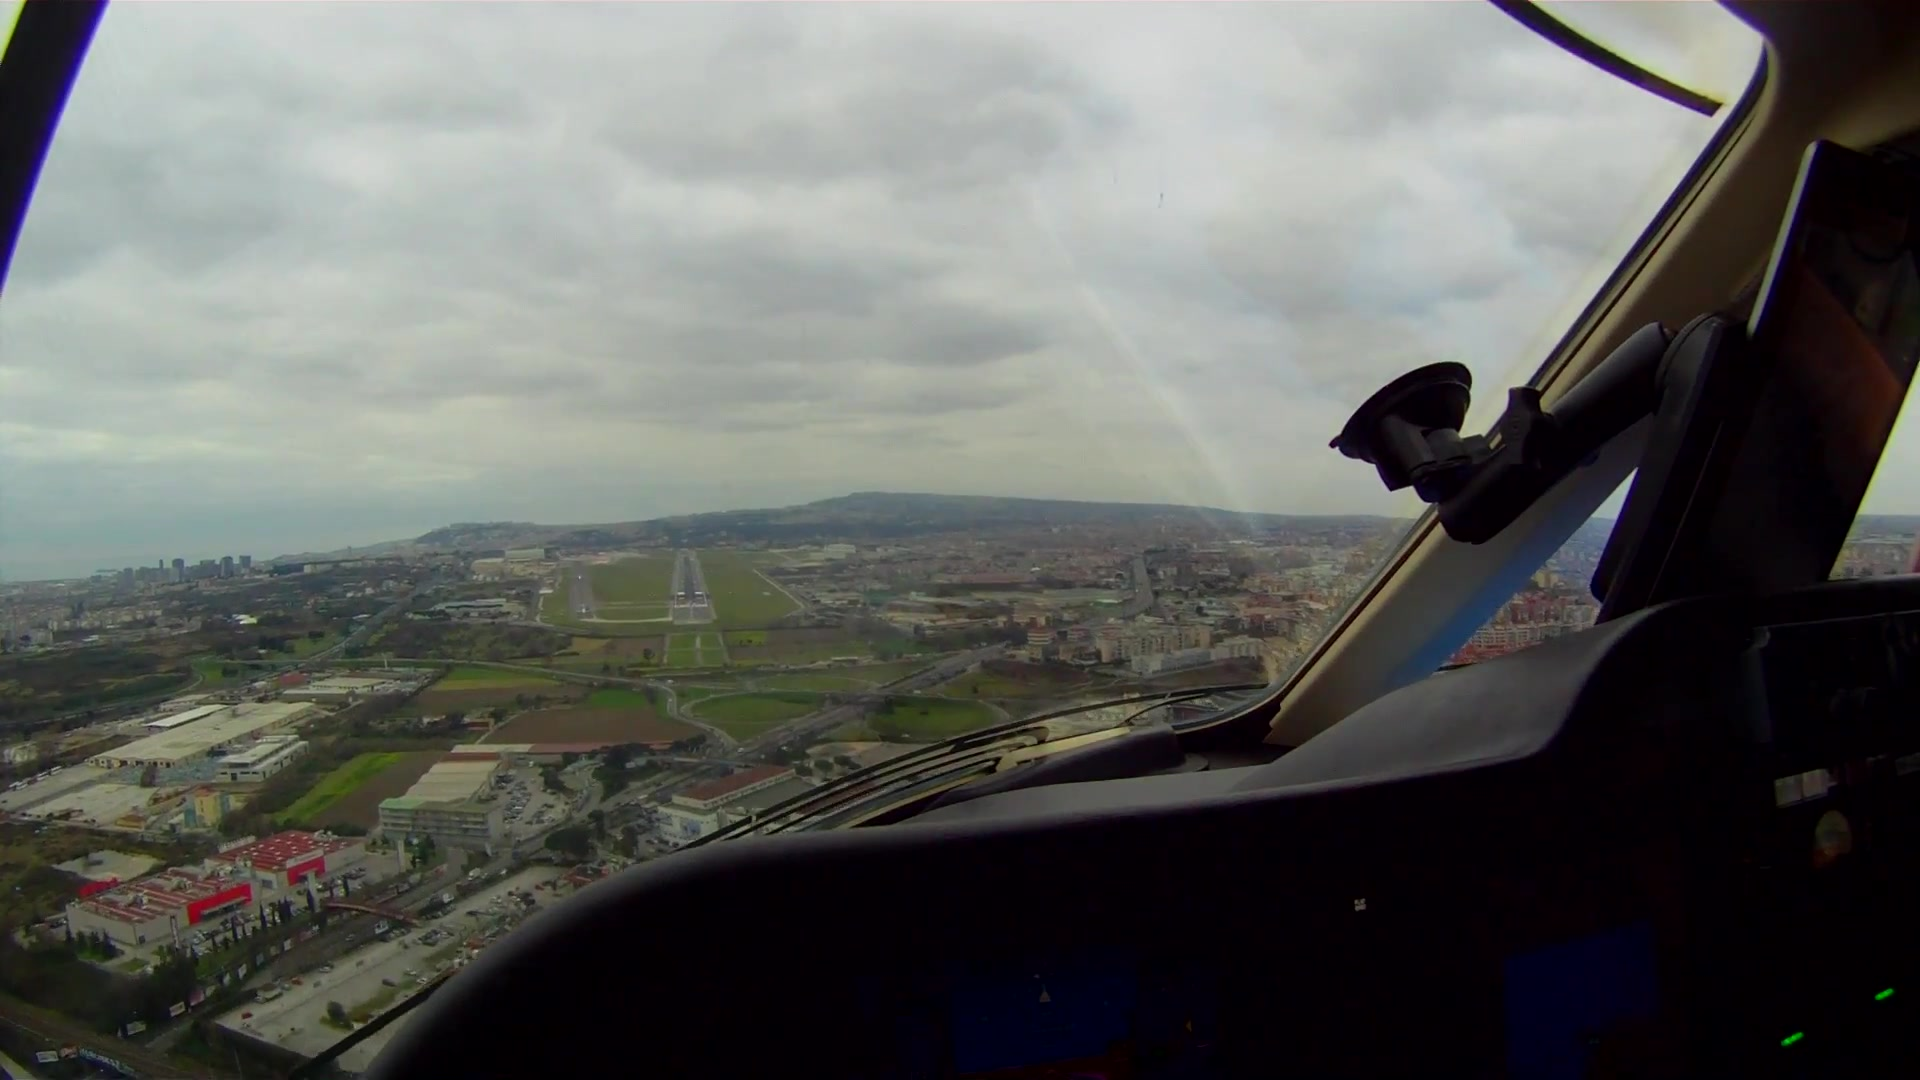runway: (669, 551, 715, 622)
